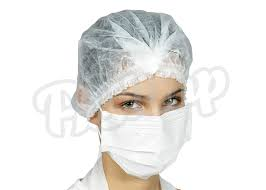with_mask_and_cap: (81, 10, 190, 179)
